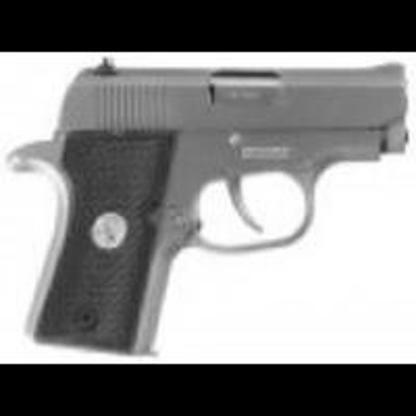weapon: (5, 55, 416, 364)
